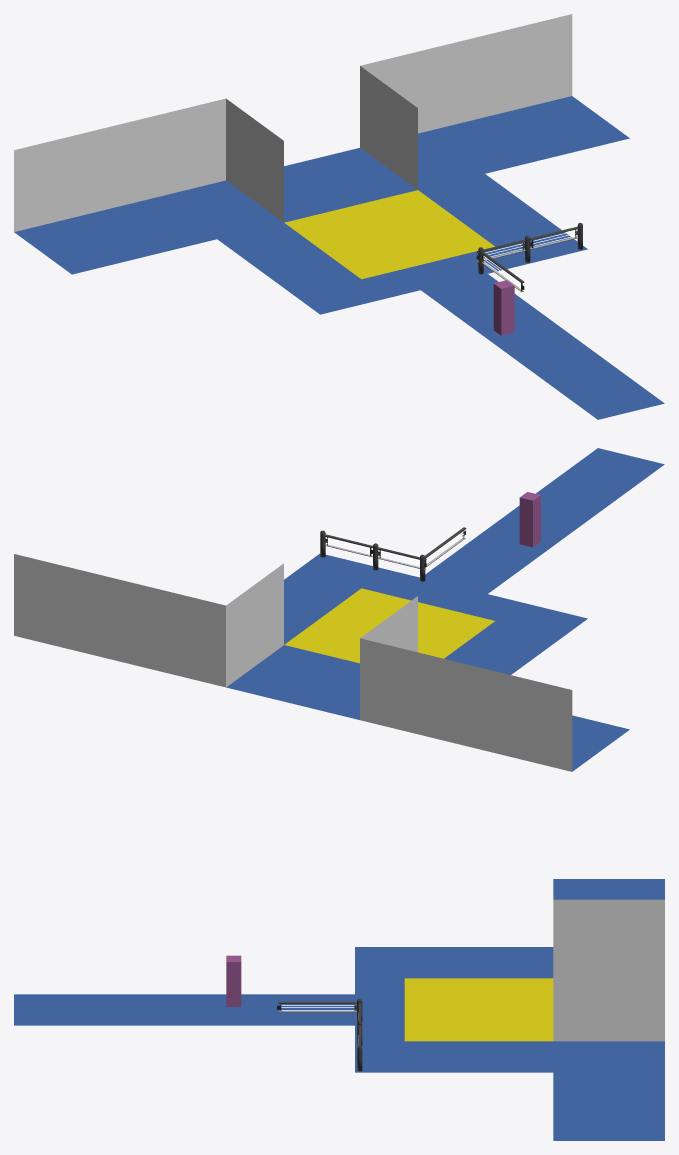
The model's file is mall_layout1.glb.
The picture shows the model from 3 angles, top to bottom: view 1: azimuth 30°, elevation 25°; view 2: azimuth 150°, elevation 25°; view 3: azimuth 270°, elevation 25°; orthographic projection. The views are drawn at different scales.
Visible parts, largest first — view 1: mall_floor_basic, mall_storefront_plot, person-placehlder, mall_rail_lights.002, mall_rail_lights; view 2: mall_floor_basic, mall_storefront_plot, person-placehlder, mall_rail_lights.002, mall_rail_lights, mall_rail_lights.001; view 3: mall_floor_basic, mall_storefront_plot, person-placehlder, mall_rail_lights.
Boxes of the visible parts, box(x1,y1,x2,y2) form: mall_floor_basic: box(14, 14, 664, 419); mall_storefront_plot: box(284, 190, 494, 279); person-placehlder: box(493, 280, 514, 335); mall_rail_lights.002: box(530, 223, 582, 249); mall_rail_lights: box(478, 247, 524, 292); mall_floor_basic: box(14, 448, 664, 771); mall_storefront_plot: box(284, 588, 494, 663); person-placehlder: box(519, 492, 540, 547); mall_rail_lights.002: box(320, 530, 372, 557); mall_rail_lights: box(420, 527, 466, 581); mall_rail_lights.001: box(373, 543, 426, 570); mall_floor_basic: box(14, 879, 664, 1140); mall_storefront_plot: box(404, 978, 553, 1041); person-placehlder: box(226, 955, 241, 1006); mall_rail_lights: box(277, 998, 362, 1023).
Size of the model in its own units: 25 by 3.51 by 26.25.
